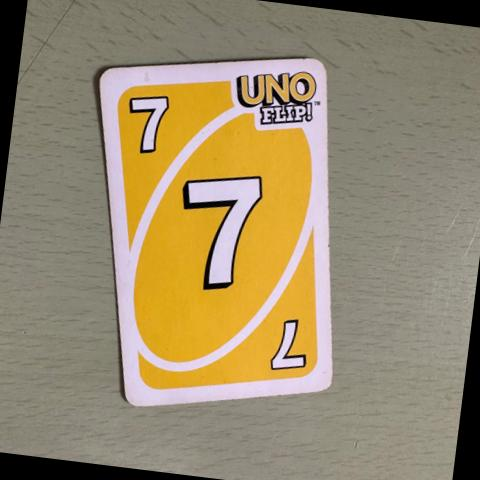1_yellow: (177, 176, 263, 290), (127, 93, 171, 154), (266, 322, 307, 369)
